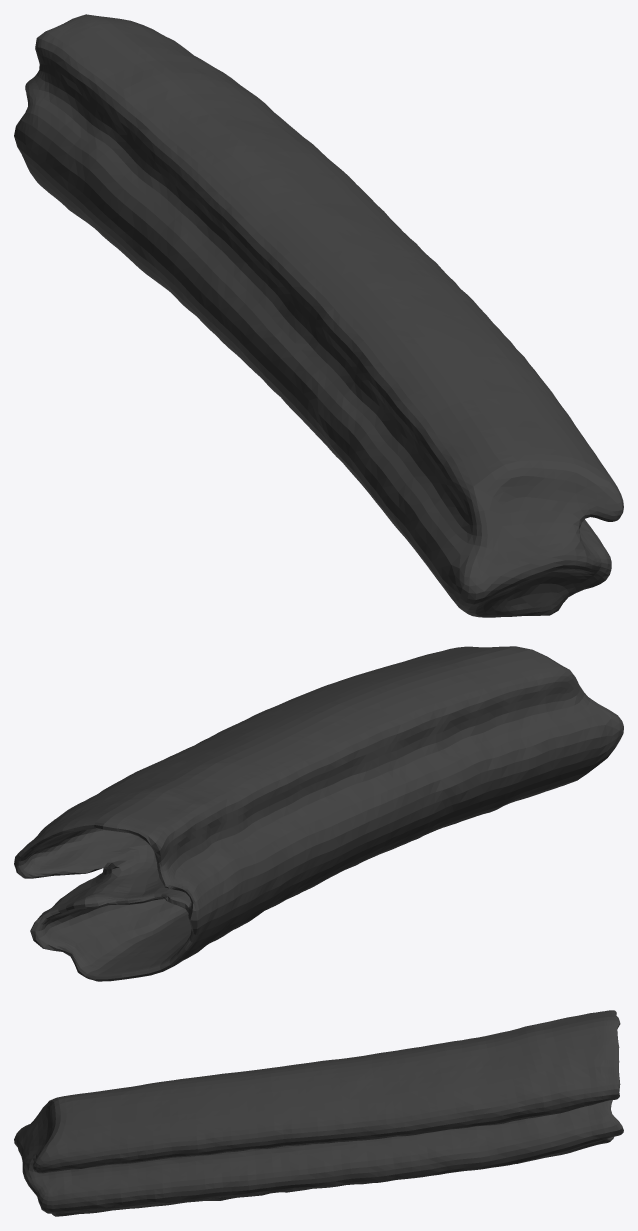
Rendered from tooth_rabbit_308_low.glb.
3 renders of one model, top to bottom at view 1: azimuth 30°, elevation 25°; view 2: azimuth 150°, elevation 25°; view 3: azimuth 270°, elevation 25°, orthographic. The views are drawn at different scales.
Parts seen in each view (by area): view 1: tooth_rabbit_308_low; view 2: tooth_rabbit_308_low; view 3: tooth_rabbit_308_low.
Boxes of the visible parts, <box> form: tooth_rabbit_308_low: <box>14,14,623,617</box>; tooth_rabbit_308_low: <box>14,646,623,981</box>; tooth_rabbit_308_low: <box>14,1010,623,1216</box>.
Bounding box in the file's own units: 0.3893 × 0.5038 × 1.5.
Materials: 1 (1 with a texture image).
